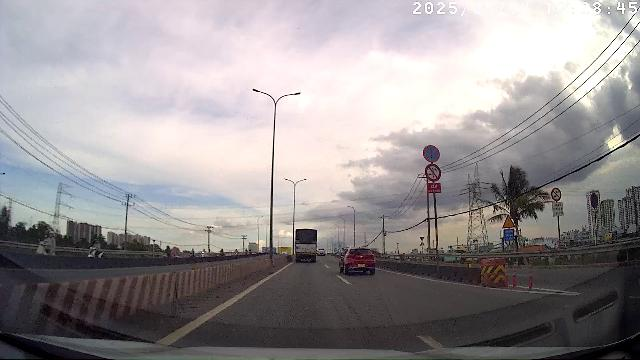130-cam-dung-va-do-xe: (423, 145, 440, 162), (589, 192, 600, 208)
